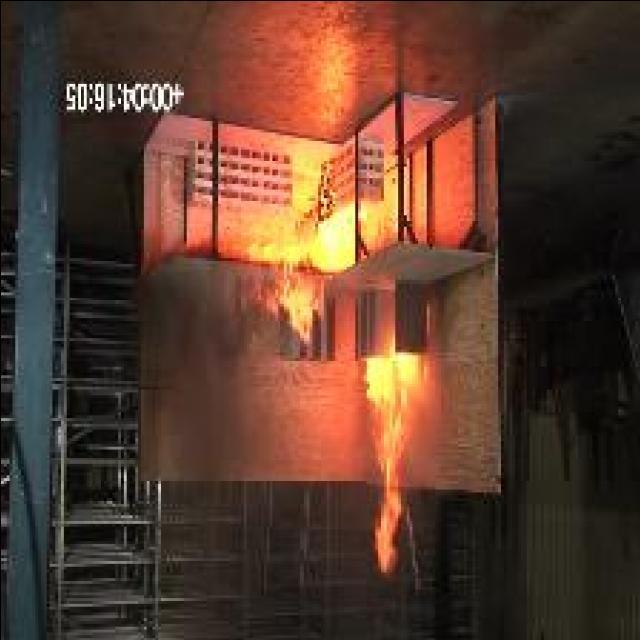Fire: (242, 173, 352, 341), (362, 354, 418, 572)
